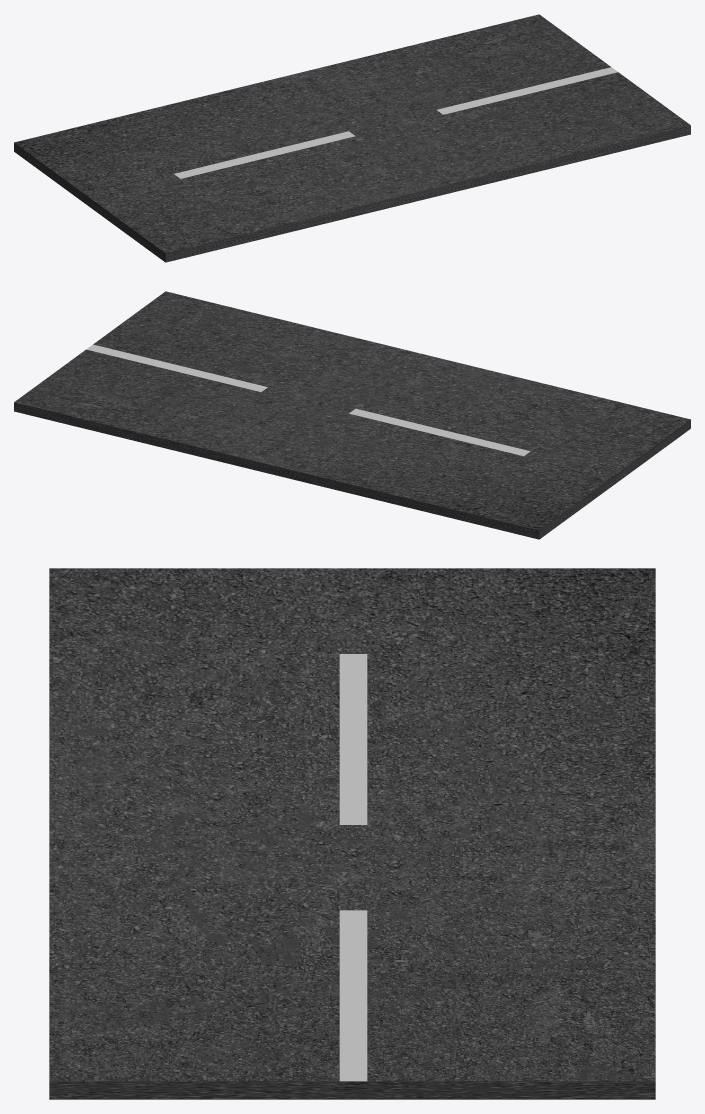
Rendered from Road.fbx.
The picture shows the model from 3 angles, top to bottom: view 1: azimuth 30°, elevation 25°; view 2: azimuth 150°, elevation 25°; view 3: azimuth 270°, elevation 25°; orthographic projection. The views are drawn at different scales.
Visible parts, largest first — view 1: ﺐﻌﻜﻣ; view 2: ﺐﻌﻜﻣ; view 3: ﺐﻌﻜﻣ.
Boxes of the visible parts, x1=… form: ﺐﻌﻜﻣ: x1=14, y1=14, x2=690, y2=262; ﺐﻌﻜﻣ: x1=14, y1=291, x2=690, y2=539; ﺐﻌﻜﻣ: x1=49, y1=568, x2=655, y2=1099.
Bounding box in the file's own units: 1200 × 20 × 600.
